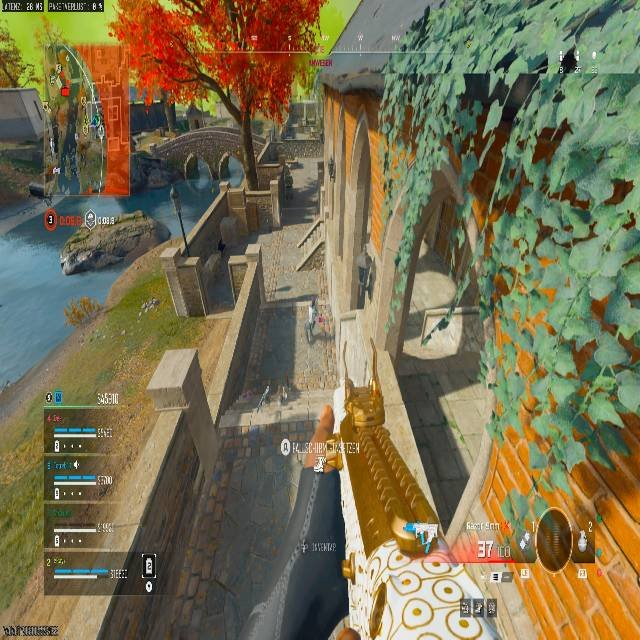player: (282, 167, 293, 196)
